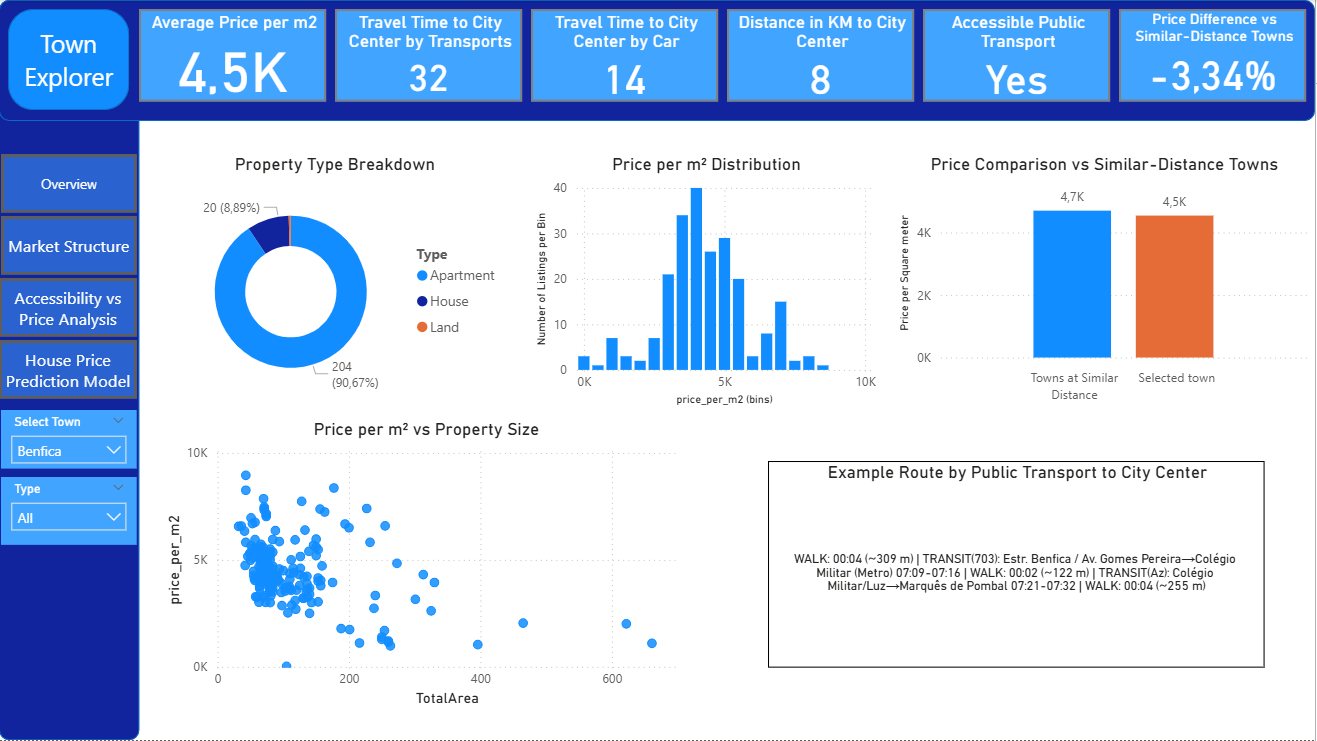

The page's visual inventory and layout, read from the dashboard file:
{"tool":"powerbi","page":{"name":"Town Explorer","canvas":[1280,720],"ordinal":3},"visuals":[{"type":"shape","box":[0,0,136.6,720],"z":0},{"type":"shape","box":[0,0,1280,117.7],"z":1000},{"type":"clusteredColumnChart","title":"Price per m² Distribution","fields":{"Y":["CountNonNull(housing_with_citycenter_times_final1.price_per_m2)"],"Category":["housing_with_citycenter_times_final1.price_per_m2 (bins)"]},"box":[517.4,149.8,341.4,249],"z":8000},{"type":"clusteredColumnChart","title":"Price Comparison vs Similar-Distance Towns","fields":{"Category":["Labels.Label"],"Y":["housing_with_citycenter_times_final1.Value_Selected_vs_Peers"]},"box":[870.5,149.8,409.5,249],"z":9000},{"type":"donutChart","title":"Property Type Breakdown","fields":{"Category":["housing_with_citycenter_times_final1.Type"],"Y":["CountNonNull(housing_with_citycenter_times_final1.Type)"]},"box":[156.6,149.8,340.4,249],"z":11000},{"type":"scatterChart","title":"Price per m² vs Property Size","fields":{"X":["housing_with_citycenter_times_final1.TotalArea"],"Y":["housing_with_citycenter_times_final1.price_per_m2"]},"box":[156.6,407.5,518.4,284],"z":12000},{"type":"card","title":"Example Route by Public Transport to City Center","fields":{"Values":["Min(housing_with_citycenter_times_final1.route_text_final)"]},"box":[748,448.4,483.4,201.3],"z":15000},{"type":"shape","box":[8.9,8.9,117.9,98.4],"z":15001},{"type":"slicer","fields":{"Values":["housing_with_citycenter_times_final1.Town"]},"box":[1.9,398.8,132.3,57.4],"z":15005},{"type":"slicer","fields":{"Values":["housing_with_citycenter_times_final1.Type"]},"box":[1.9,464,132.3,66.1],"z":15007},{"type":"actionButton","title":"Product Insights","box":[1.9,149.8,132.3,57.4],"z":15008},{"type":"actionButton","title":"Product Insights","box":[1.9,210.1,132.3,57.4],"z":15009},{"type":"actionButton","title":"Product Insights","box":[0,270.4,134.2,57.4],"z":15010},{"type":"actionButton","title":"Product Insights","box":[0,330.7,134.2,57.4],"z":15011},{"type":"card","title":"Average Price per m2","fields":{"Values":["Avg(housing_with_citycenter_times_final1.price_per_m2)"]},"box":[136.2,8.8,181.9,90.5],"z":15012},{"type":"card","title":"Travel Time to City Center by Transports","fields":{"Values":["Avg(housing_with_citycenter_times_final1.travel_min_final)"]},"box":[326.8,8.8,181.9,90.5],"z":15013},{"type":"card","title":"Travel Time to City Center by Car","fields":{"Values":["Avg(housing_with_citycenter_times_final1.drive_min_final)"]},"box":[517.4,8.8,181.9,90.5],"z":15014},{"type":"card","title":"Distance in KM to City Center","fields":{"Values":["Avg(housing_with_citycenter_times_final1.drive_km_final)"]},"box":[708.1,8.8,181.9,90.5],"z":15015},{"type":"card","title":"Accessible Public Transport","fields":{"Values":["Min(housing_with_citycenter_times_final1.HasTransport)"]},"box":[898.7,8.8,181.9,90.5],"z":15016},{"type":"card","title":"Price Difference vs Similar-Distance Towns","fields":{"Values":["housing_with_citycenter_times_final1.Premium_vs_Peers_%"]},"box":[1089.4,8.8,181.9,90.5],"z":15017}]}

Visuals, with their boxes in screenshot pixels (x1, y1, x2, y2), scaled from the page's 1280x720 canvas onto the 1317x741 screenshot:
shape: <box>0,0,141,740</box>
shape: <box>0,0,1316,121</box>
"Price per m² Distribution" clusteredColumnChart: <box>532,154,884,410</box>
"Price Comparison vs Similar-Distance Towns" clusteredColumnChart: <box>896,154,1316,410</box>
"Property Type Breakdown" donutChart: <box>161,154,511,410</box>
"Price per m² vs Property Size" scatterChart: <box>161,419,695,712</box>
"Example Route by Public Transport to City Center" card: <box>770,461,1267,669</box>
shape: <box>9,9,130,110</box>
slicer - housing_with_citycenter_times_final1.Town: <box>2,410,138,470</box>
slicer - housing_with_citycenter_times_final1.Type: <box>2,478,138,546</box>
"Product Insights" actionButton: <box>2,154,138,213</box>
"Product Insights" actionButton: <box>2,216,138,275</box>
"Product Insights" actionButton: <box>0,278,138,337</box>
"Product Insights" actionButton: <box>0,340,138,399</box>
"Average Price per m2" card: <box>140,9,327,102</box>
"Travel Time to City Center by Transports" card: <box>336,9,523,102</box>
"Travel Time to City Center by Car" card: <box>532,9,720,102</box>
"Distance in KM to City Center" card: <box>729,9,916,102</box>
"Accessible Public Transport" card: <box>925,9,1112,102</box>
"Price Difference vs Similar-Distance Towns" card: <box>1121,9,1308,102</box>
